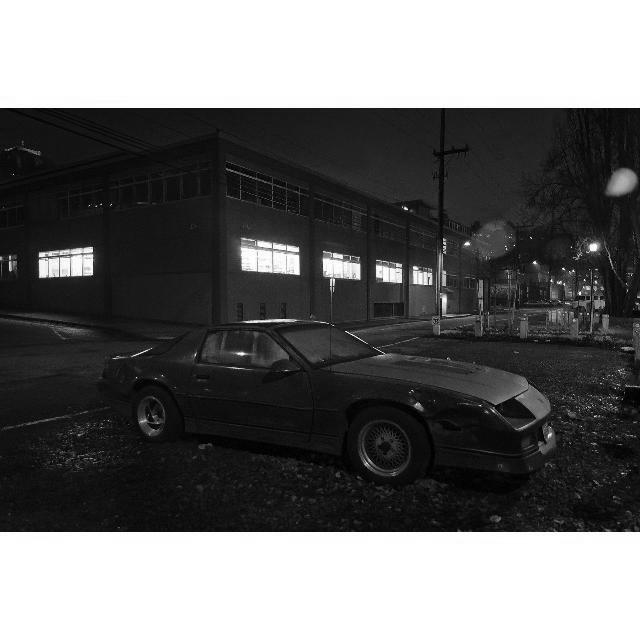fender-dent: (326, 370, 482, 447)
front-bumper-dent: (486, 399, 574, 473)
quaterpanel-dent: (93, 355, 192, 416)
